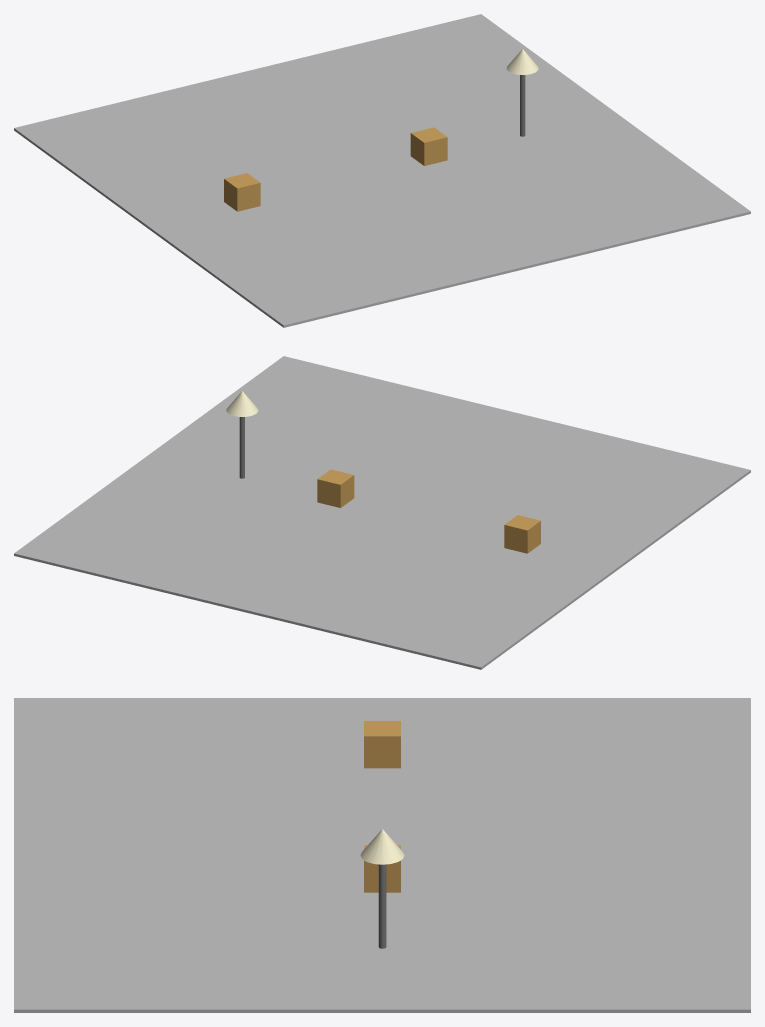
Rendered from big.gltf.
3 renders of one model, top to bottom at view 1: azimuth 30°, elevation 25°; view 2: azimuth 150°, elevation 25°; view 3: azimuth 270°, elevation 25°, orthographic. The views are drawn at different scales.
Parts seen in each view (by area): view 1: ground-plane, crate-01, big-0; view 2: ground-plane, crate-01, big-0; view 3: ground-plane, big-0, lamp-shade, crate-01, lamp-stand.
Boxes of the visible parts, x1,y1,x2,y2 form: ground-plane: (14, 14, 750, 327); crate-01: (410, 127, 447, 165); big-0: (224, 173, 260, 211); ground-plane: (14, 356, 750, 669); crate-01: (317, 469, 354, 507); big-0: (504, 515, 540, 553); ground-plane: (14, 698, 750, 1012); big-0: (364, 721, 400, 768); lamp-shade: (360, 829, 404, 864); crate-01: (364, 845, 400, 892); lamp-stand: (378, 864, 386, 948).
Bounding box in the file's own units: 10 × 1.83 × 10.
